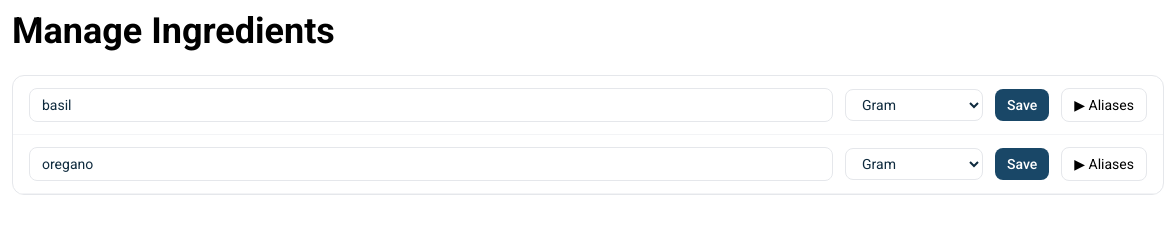
it: ManageIngredientsPage › aliases section › shows aliases when a row is expanded
Click the button with aria-label "expand aliases".
click(1104, 105)  # box [1061,88,1147,122]
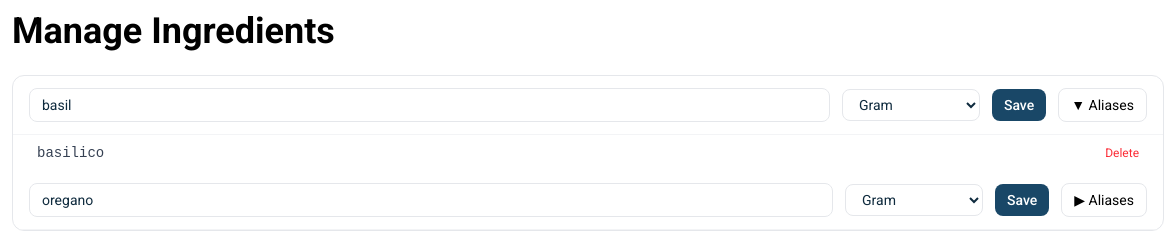
Result: the text "basilico" is shown at [37,145,104,161]
